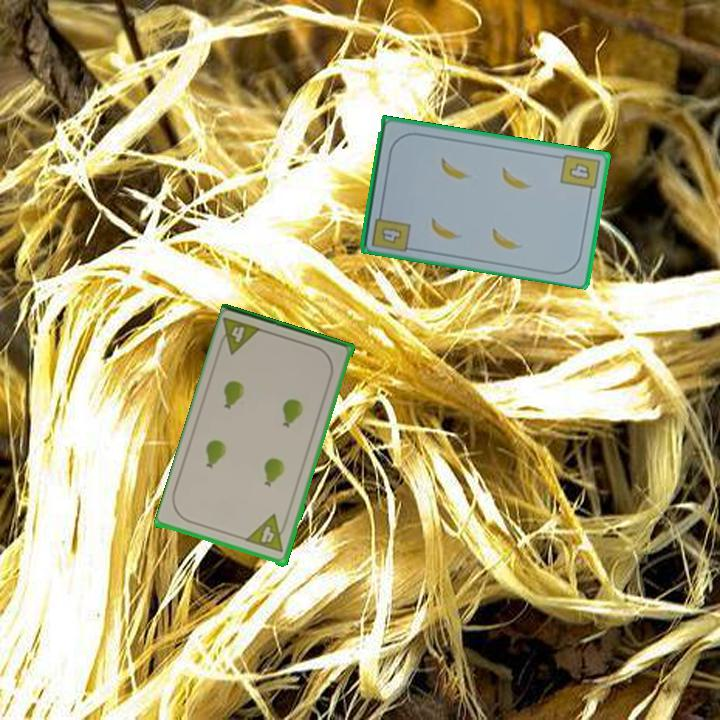4b: (557, 150, 603, 198), (368, 206, 413, 252)
4p: (214, 314, 265, 358), (243, 512, 291, 556)
